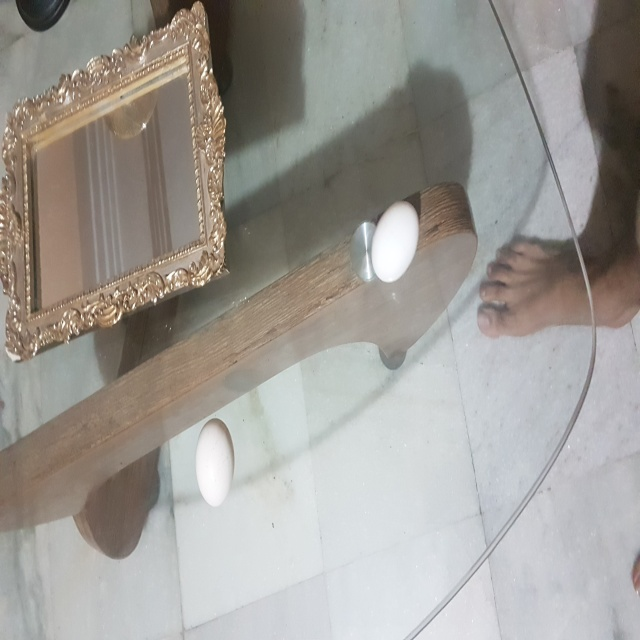eggs: (372, 202, 421, 281), (195, 418, 238, 507)
